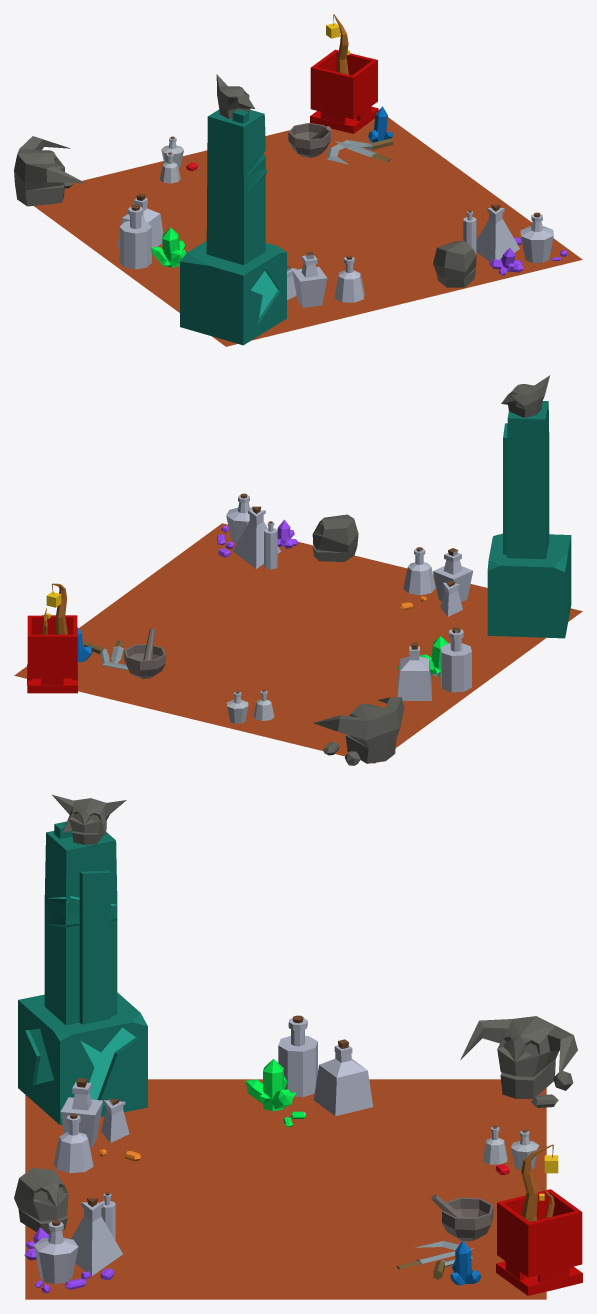
Rendered from shamanEnvironment.obj.
The picture shows the model from 3 angles, top to bottom: view 1: azimuth 30°, elevation 25°; view 2: azimuth 150°, elevation 25°; view 3: azimuth 270°, elevation 25°; orthographic projection. The views are drawn at different scales.
Visible parts, largest first — view 1: carpet_Plane, torre_Cubo.001, fff_Cubo.020, Set_shaman.007, Set_shaman.008, Set_shaman.005, Set_shaman.006, Set_shaman.003, Set_shaman.004, Set_shaman.002, Set_shaman.009, Set_shaman.001 (+3 smaller); view 2: carpet_Plane, torre_Cubo.001, fff_Cubo.020, Set_shaman.008, Set_shaman.005, Set_shaman.007, Set_shaman.006, Set_shaman.003, Set_shaman.004, Set_shaman.002, Set_shaman.009, Set_shaman.001; view 3: carpet_Plane, torre_Cubo.001, fff_Cubo.020, Set_shaman.008, Set_shaman.005, Set_shaman.007, Set_shaman.006, Set_shaman.003, Set_shaman.004, Set_shaman.002, luz_tore1_Cubo.000, Set_shaman.009 (+3 smaller).
Boxes of the visible parts, x1,y1,x2,y2 form: carpet_Plane: (34,117,582,346); torre_Cubo.001: (180,109,286,345); fff_Cubo.020: (310,49,378,133); Set_shaman.007: (463,204,566,275); Set_shaman.008: (117,193,191,269); Set_shaman.005: (14,136,85,206); Set_shaman.006: (287,251,364,307); Set_shaman.003: (433,241,476,287); Set_shaman.004: (288,123,330,157); Set_shaman.002: (216,74,254,118); Set_shaman.009: (159,136,197,183); Set_shaman.001: (327,138,393,164); carpet_Plane: (14,523,582,763); torre_Cubo.001: (487,401,571,638); fff_Cubo.020: (27,615,77,693); Set_shaman.008: (397,627,471,700); Set_shaman.005: (313,697,404,765); Set_shaman.007: (217,493,298,569); Set_shaman.006: (399,547,472,616); Set_shaman.003: (312,514,358,561); Set_shaman.004: (124,628,165,678); Set_shaman.002: (501,375,549,417); Set_shaman.009: (226,689,274,723); Set_shaman.001: (83,640,128,669); carpet_Plane: (25,1079,546,1299); torre_Cubo.001: (18,821,147,1125); fff_Cubo.020: (496,1189,582,1295); Set_shaman.008: (245,1015,373,1127); Set_shaman.005: (460,1016,577,1107); Set_shaman.007: (24,1192,122,1293); Set_shaman.006: (54,1078,140,1173); Set_shaman.003: (14,1167,68,1234); Set_shaman.004: (431,1194,493,1241); Set_shaman.002: (52,794,126,844); luz_tore1_Cubo.000: (29,896,135,1099); Set_shaman.009: (482,1125,538,1174).
Bounding box in the file's own units: 80.9 × 50.54 × 84.92.
Materials: 1 (1 with a texture image).
